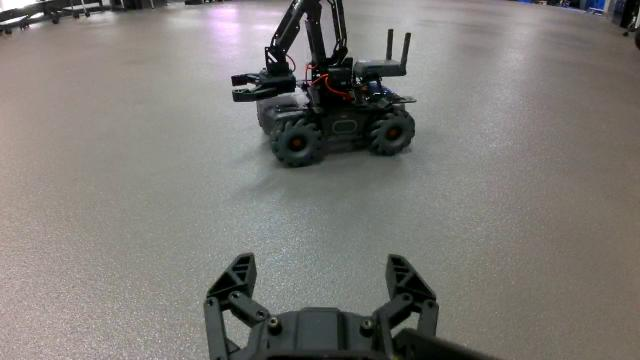robot: (230, 1, 417, 167)
